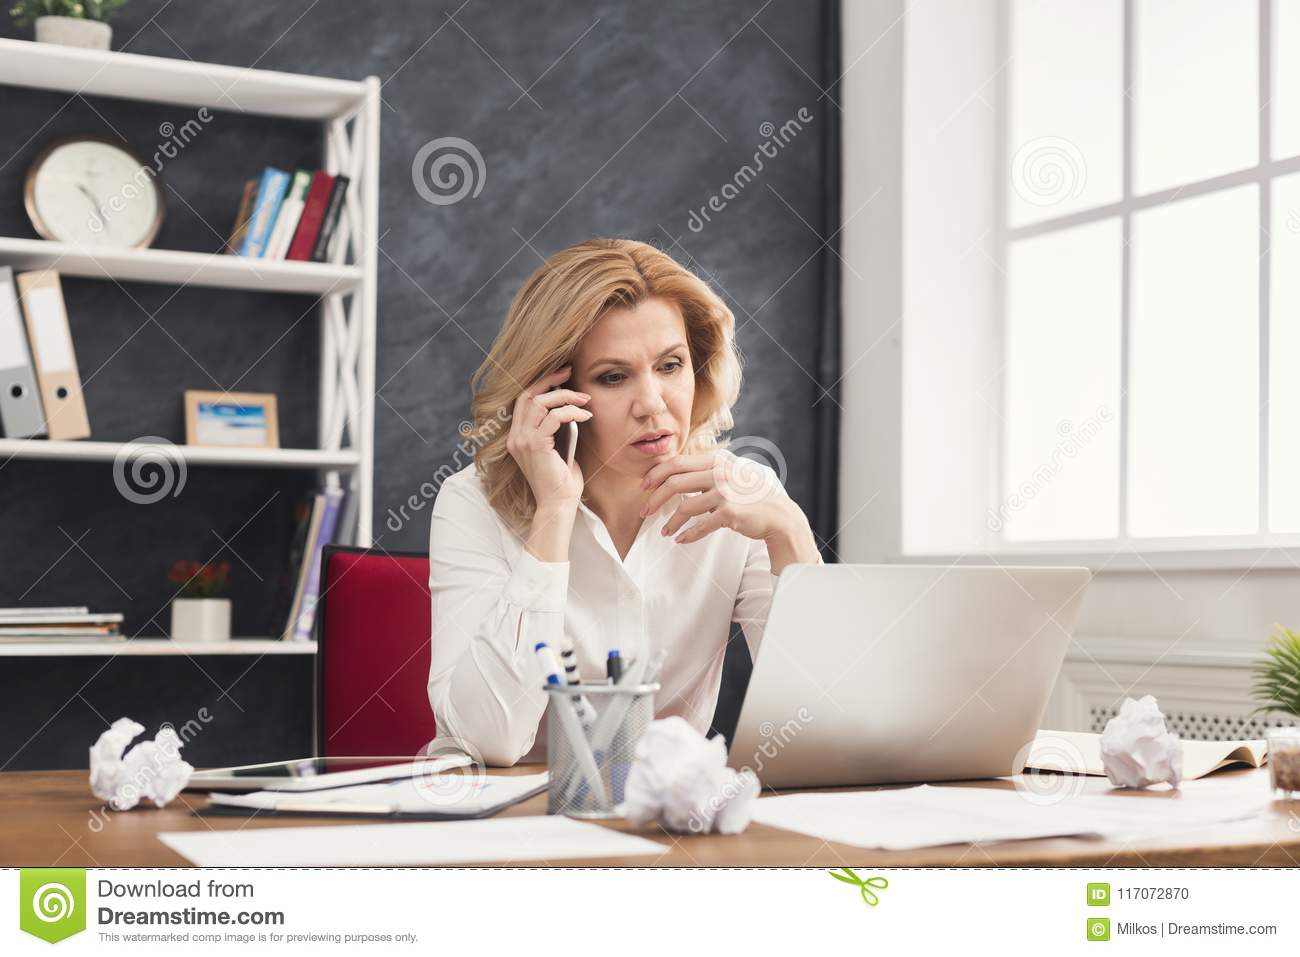phone: (527, 364, 590, 483)
talk: (505, 318, 697, 529)
